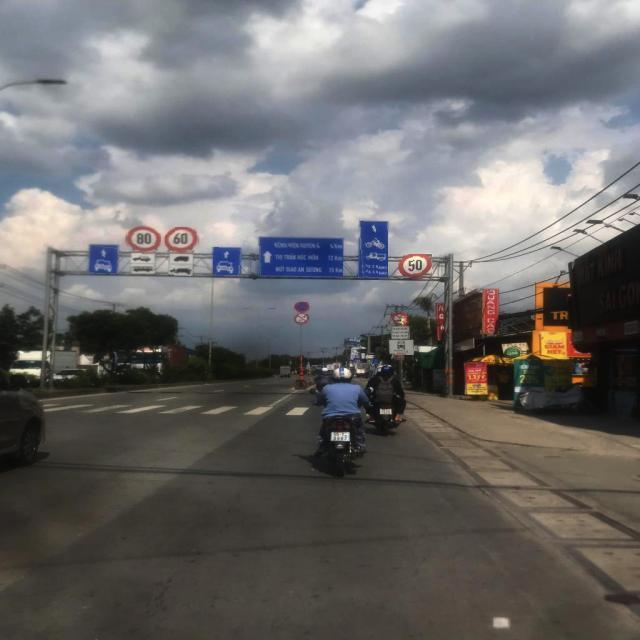107-cam-oto-khach-va-oto-tai: (391, 312, 409, 326)
127-toc-do-toi-da-50: (398, 254, 431, 279)
127-toc-do-toi-da-60: (164, 227, 199, 253)
127-toc-do-toi-da-80: (124, 225, 162, 252)
130-cam-dung-va-do-xe: (294, 301, 310, 313)
